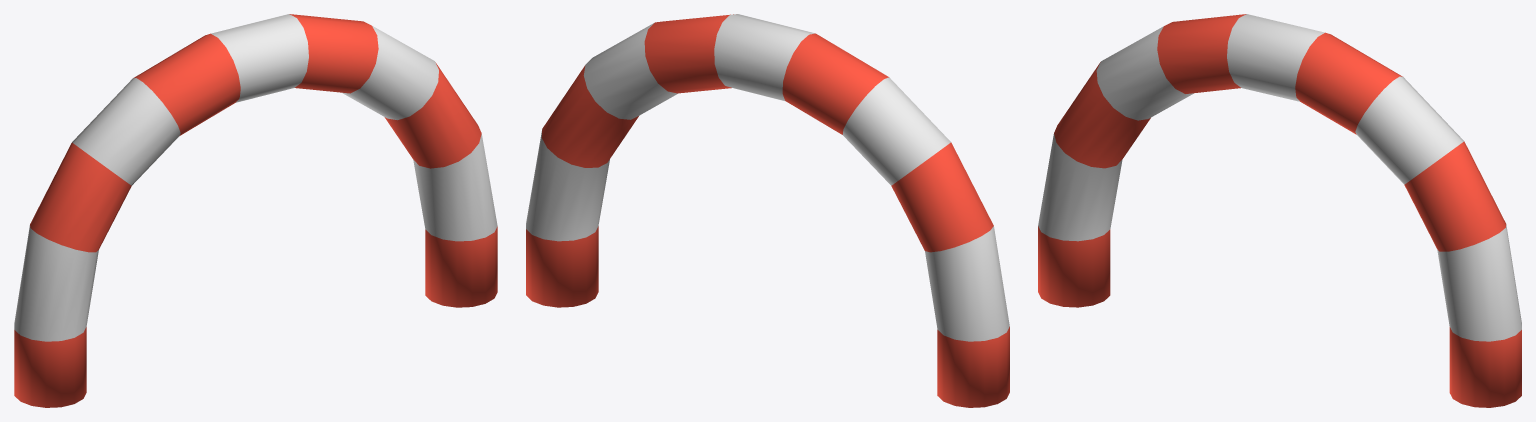
Rendered from FinishLowPoly.fbx.
3 views of the same model, side by side, from view 1: azimuth 30°, elevation 25°; view 2: azimuth 150°, elevation 25°; view 3: azimuth 330°, elevation 25° (orthographic).
Parts seen in each view (by area): view 1: Cylinder.001; view 2: Cylinder.001; view 3: Cylinder.001.
Part boxes in pixels (bbox=[...]): Cylinder.001: bbox=[14, 14, 497, 407]; Cylinder.001: bbox=[526, 14, 1009, 407]; Cylinder.001: bbox=[1038, 14, 1521, 407].
Size of the model in its own units: 1497 by 954 by 202.
